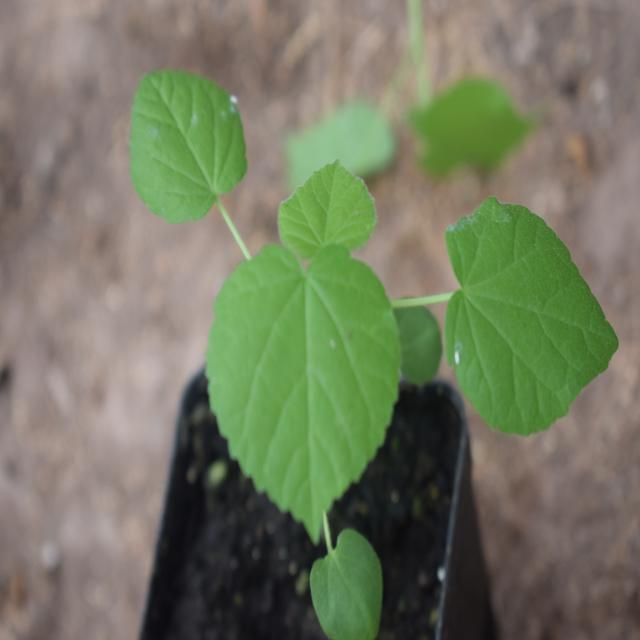abutilon theophrasti: (120, 61, 612, 526)
